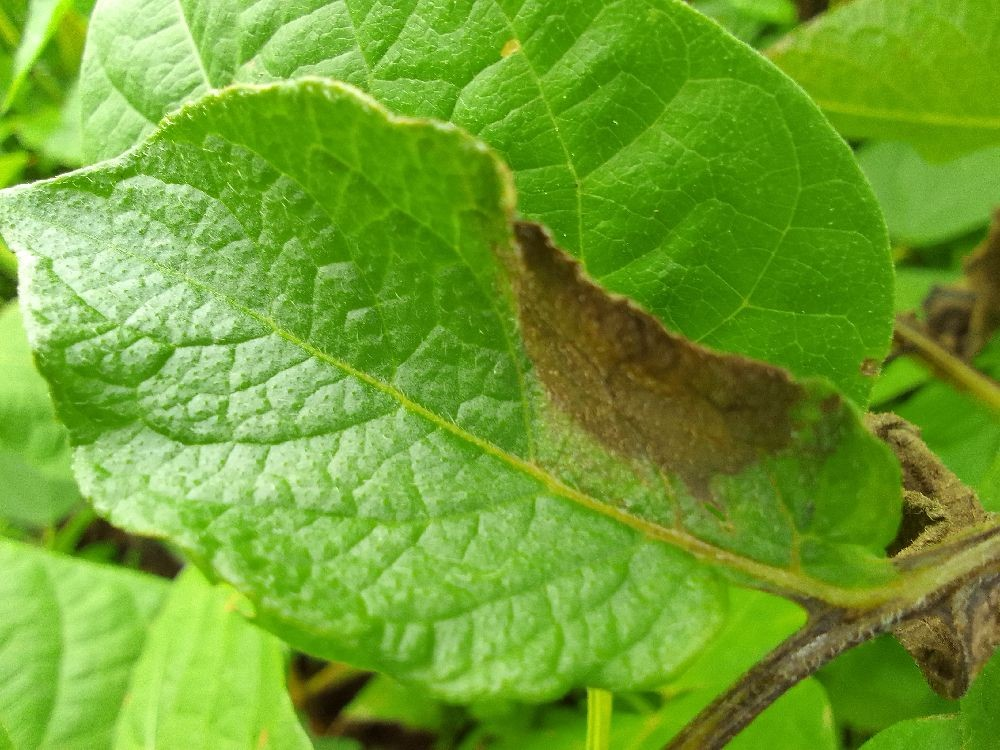late_blight: (490, 204, 817, 520), (863, 188, 1000, 416), (271, 637, 458, 750), (68, 504, 196, 590)
